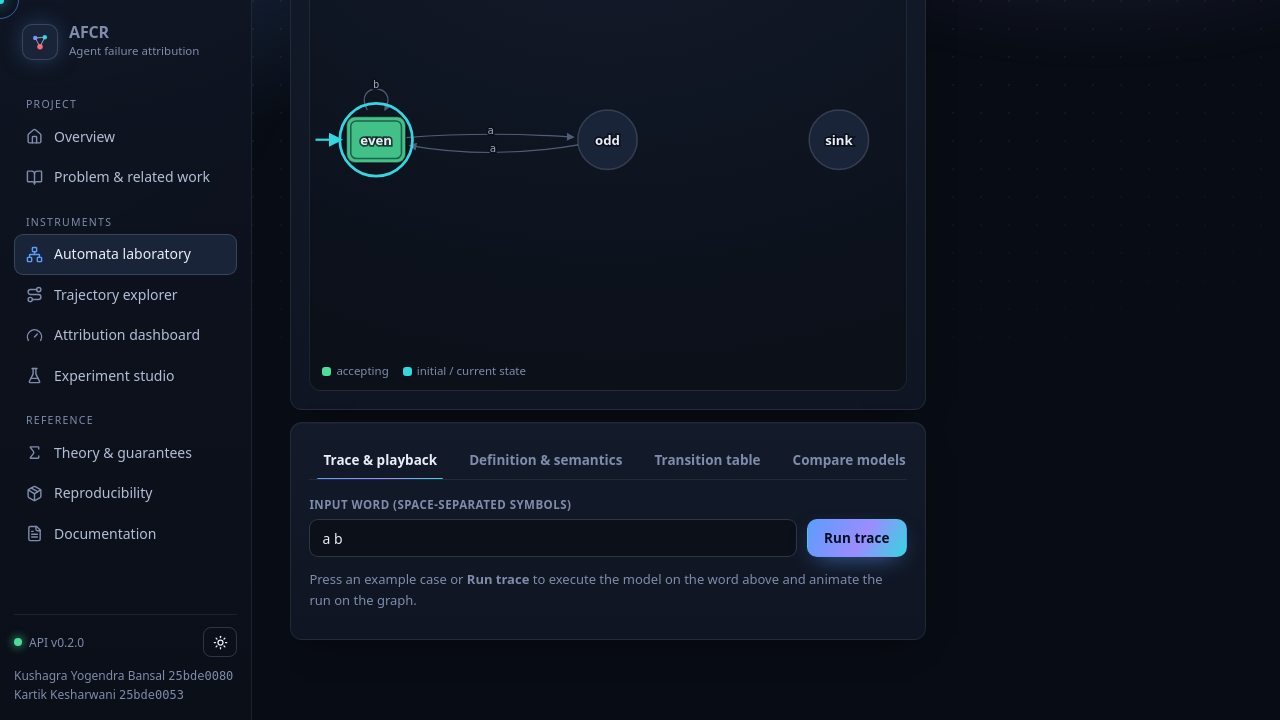
Scenario: automata laboratory › surfaces a backend validation error in the UI
This screenshot has width=1280, height=720.
(page scrolled)
Click the button with test id "run-trace" at point(857, 538), box [807,519,907,557]
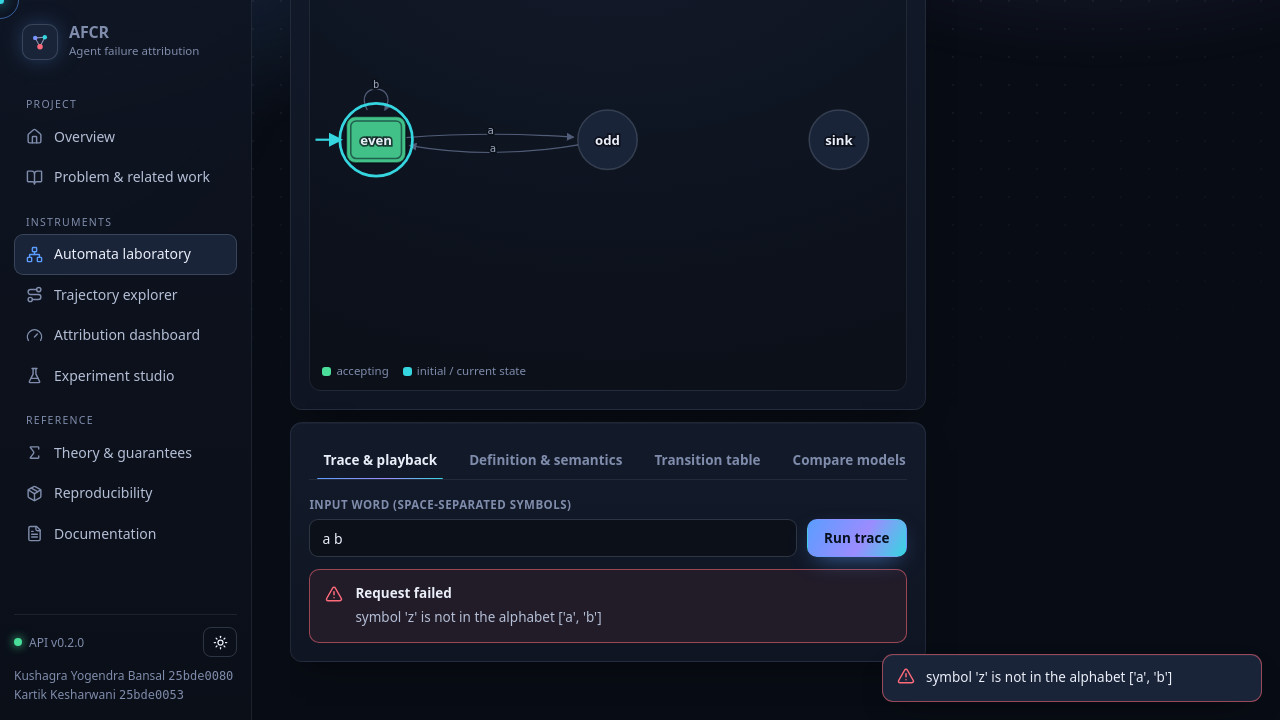
Expected: the text with test id "error-message" shows "not in the alphabet", [355,608,602,626]
